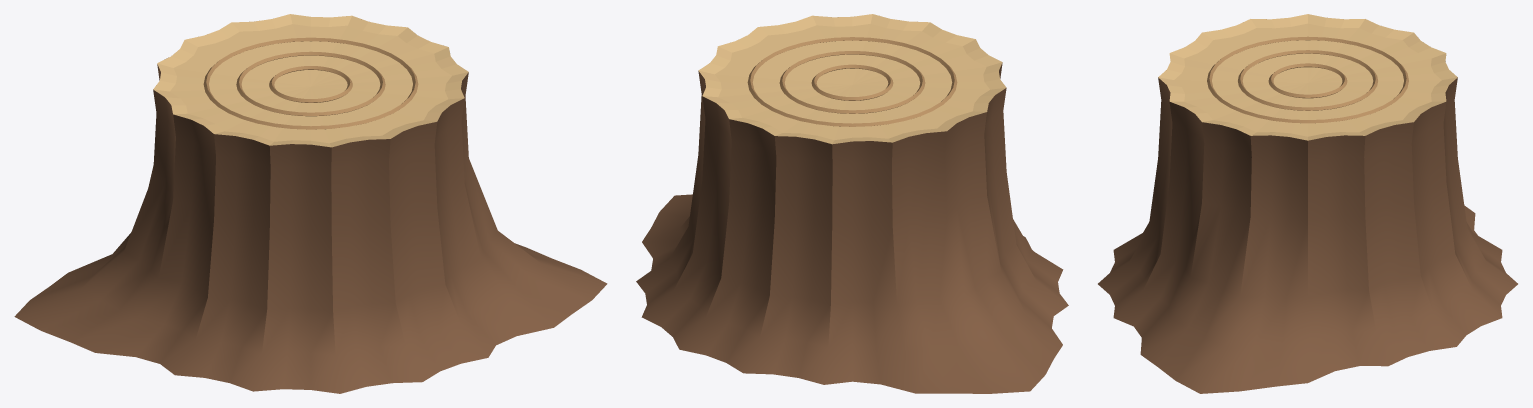
The model's file is stump.glb.
The picture shows the model from 3 angles, left to right: view 1: azimuth 30°, elevation 25°; view 2: azimuth 150°, elevation 25°; view 3: azimuth 270°, elevation 25°; orthographic projection. The views are drawn at different scales.
Visible parts, largest first — view 1: bark, top, ring2, ring1, ring0; view 2: bark, top, ring2, ring1, ring0; view 3: bark, top, ring2, ring1, ring0.
Boxes of the visible parts, box(x1,y1,x2,y2) form: bark: box(14, 57, 607, 393); top: box(153, 14, 468, 147); ring2: box(203, 37, 418, 129); ring1: box(236, 51, 385, 116); ring0: box(269, 66, 352, 102); bark: box(636, 63, 1068, 393); top: box(698, 14, 1006, 144); ring2: box(747, 37, 957, 126); ring1: box(779, 51, 925, 113); ring0: box(811, 64, 893, 100); bark: box(1098, 61, 1517, 393); top: box(1158, 14, 1457, 140); ring2: box(1207, 36, 1408, 123); ring1: box(1238, 50, 1377, 110); ring0: box(1268, 63, 1347, 98).
Bounding box in the file's own units: 1.69 × 0.74 × 1.37.
